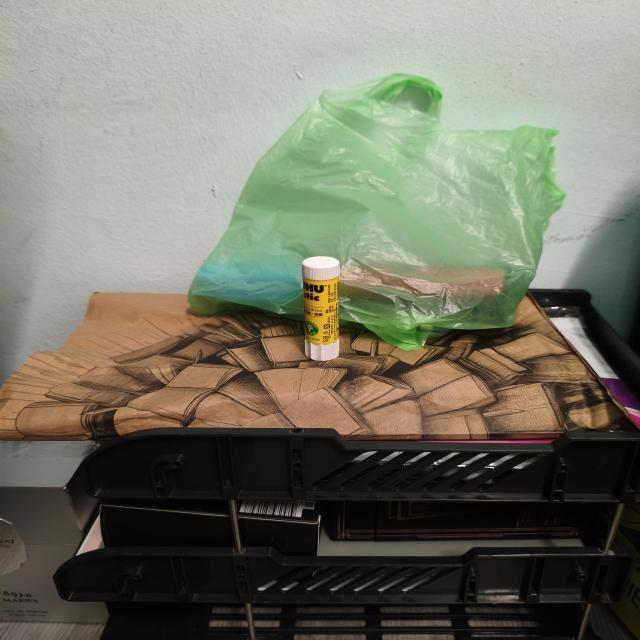glue: (302, 256, 340, 361)
